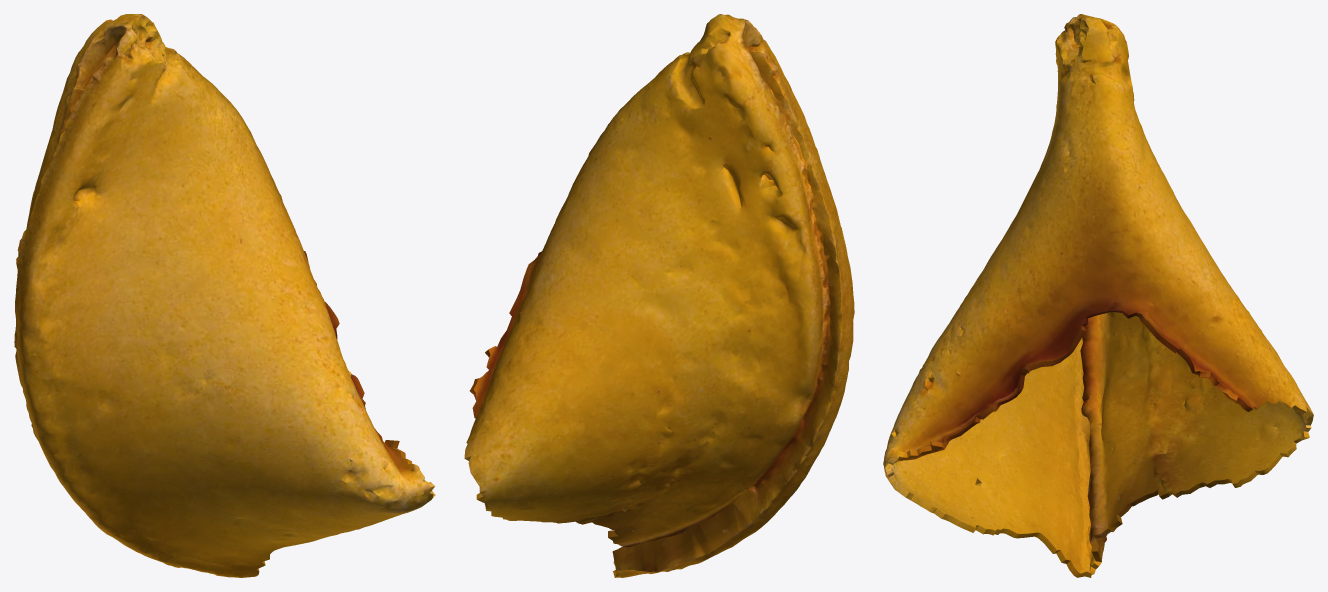
3 views of the same model, side by side, from view 1: azimuth 30°, elevation 25°; view 2: azimuth 150°, elevation 25°; view 3: azimuth 270°, elevation 25° (orthographic). The views are drawn at different scales.
Visible parts, largest first — view 1: 1.004; view 2: 1.004; view 3: 1.004.
Part boxes in pixels (bbox=[...]): 1.004: bbox=[14, 14, 435, 577]; 1.004: bbox=[464, 14, 854, 577]; 1.004: bbox=[883, 14, 1313, 577].
Size of the model in its own units: 32.75 by 57.51 by 43.7.
1 material, 1 textured.
